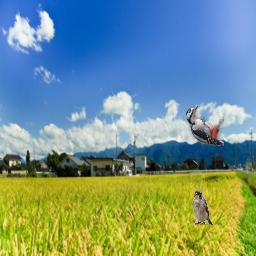Sparrow: (193, 189, 213, 225)
Woodpecker: (186, 106, 224, 146)
